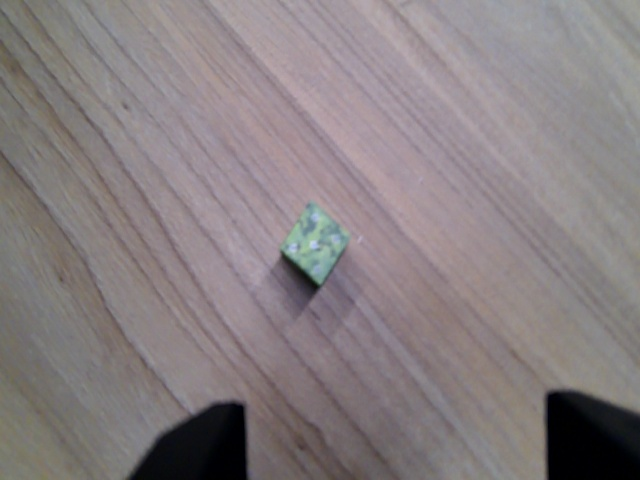grass: (276, 199, 353, 285)
